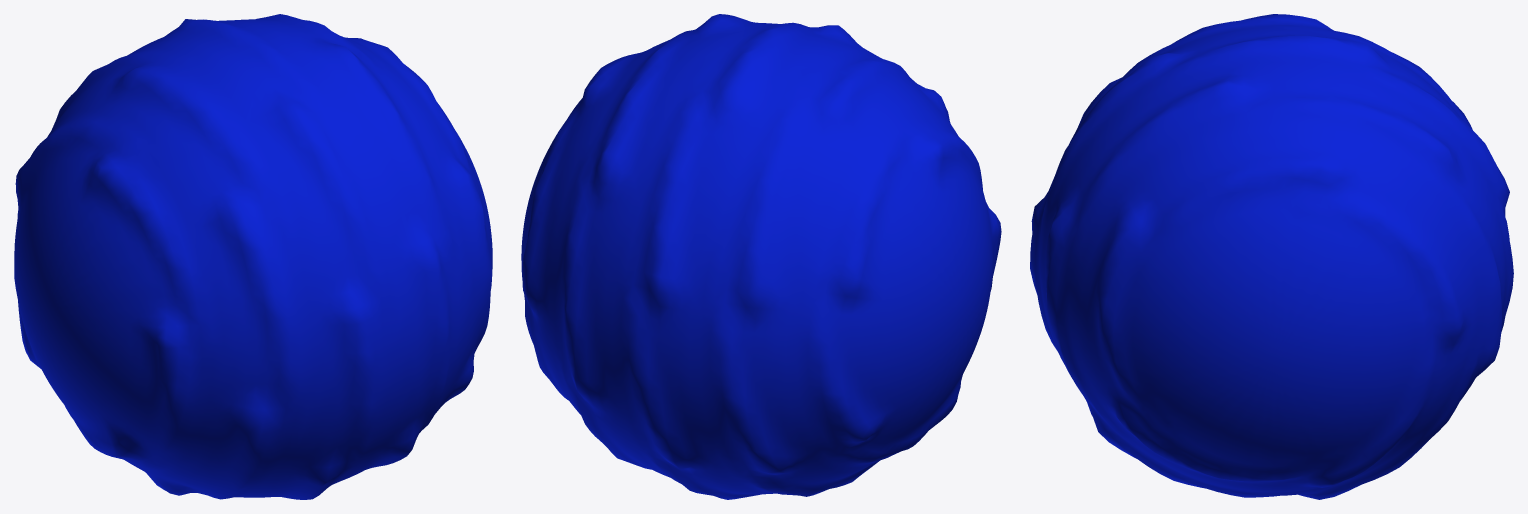
File: EV_SpinBall.obj
3 renders of one model, left to right at view 1: azimuth 30°, elevation 25°; view 2: azimuth 150°, elevation 25°; view 3: azimuth 270°, elevation 25°, orthographic. The views are drawn at different scales.
Parts seen in each view (by area): view 1: EV_SpinBall; view 2: EV_SpinBall; view 3: EV_SpinBall.
Part boxes in pixels (<box>): EV_SpinBall: <box>14,14,492,499</box>; EV_SpinBall: <box>521,14,1001,499</box>; EV_SpinBall: <box>1030,14,1513,499</box>.
Size of the model in its own units: 6.1 by 6.33 by 6.29.
